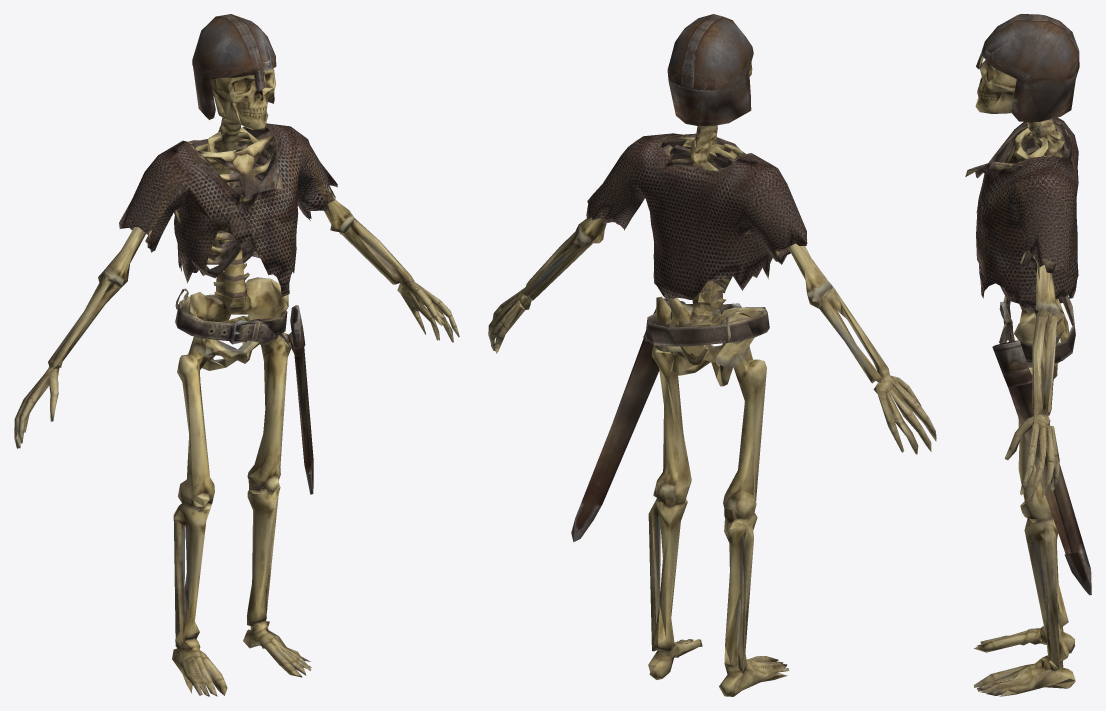
File: MW_SkelSoldier.fbx
3 views of the same model, side by side, from view 1: azimuth 30°, elevation 25°; view 2: azimuth 150°, elevation 25°; view 3: azimuth 270°, elevation 25° (orthographic).
Visible parts, largest first — view 1: Mesh_0; view 2: Mesh_0; view 3: Mesh_0.
Part boxes in pixels (x1=…): Mesh_0: x1=14, y1=14, x2=459, y2=696; Mesh_0: x1=488, y1=14, x2=936, y2=696; Mesh_0: x1=965, y1=14, x2=1091, y2=696.
Bounding box in the file's own units: 134 × 190 × 33.33.
1 material, 1 textured.
